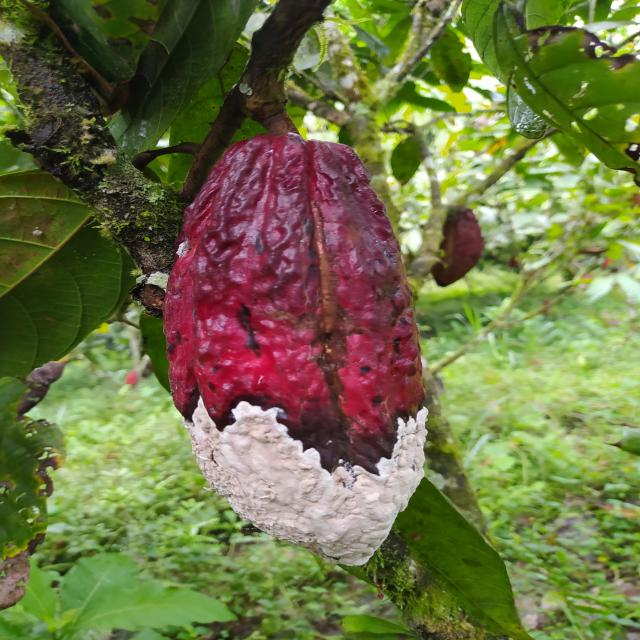Monilia: (162, 132, 431, 566)
